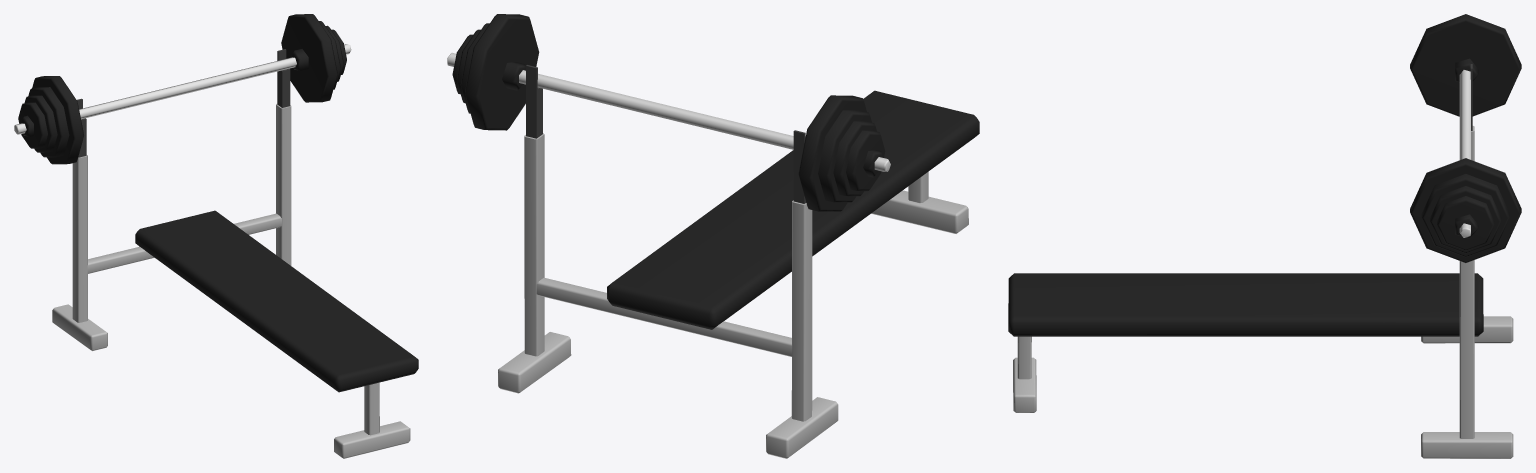
The model's file is training_018.fbx.
3 views of the same model, side by side, from view 1: azimuth 30°, elevation 25°; view 2: azimuth 150°, elevation 25°; view 3: azimuth 270°, elevation 25° (orthographic). The views are drawn at different scales.
Visible parts, largest first — view 1: training_018; view 2: training_018; view 3: training_018.
Part boxes in pixels (left/top/right/bottom): training_018: left=14, top=14, right=418, bottom=458; training_018: left=447, top=14, right=979, bottom=458; training_018: left=1008, top=14, right=1521, bottom=458.
Size of the model in its own units: 171 by 196 by 130.
